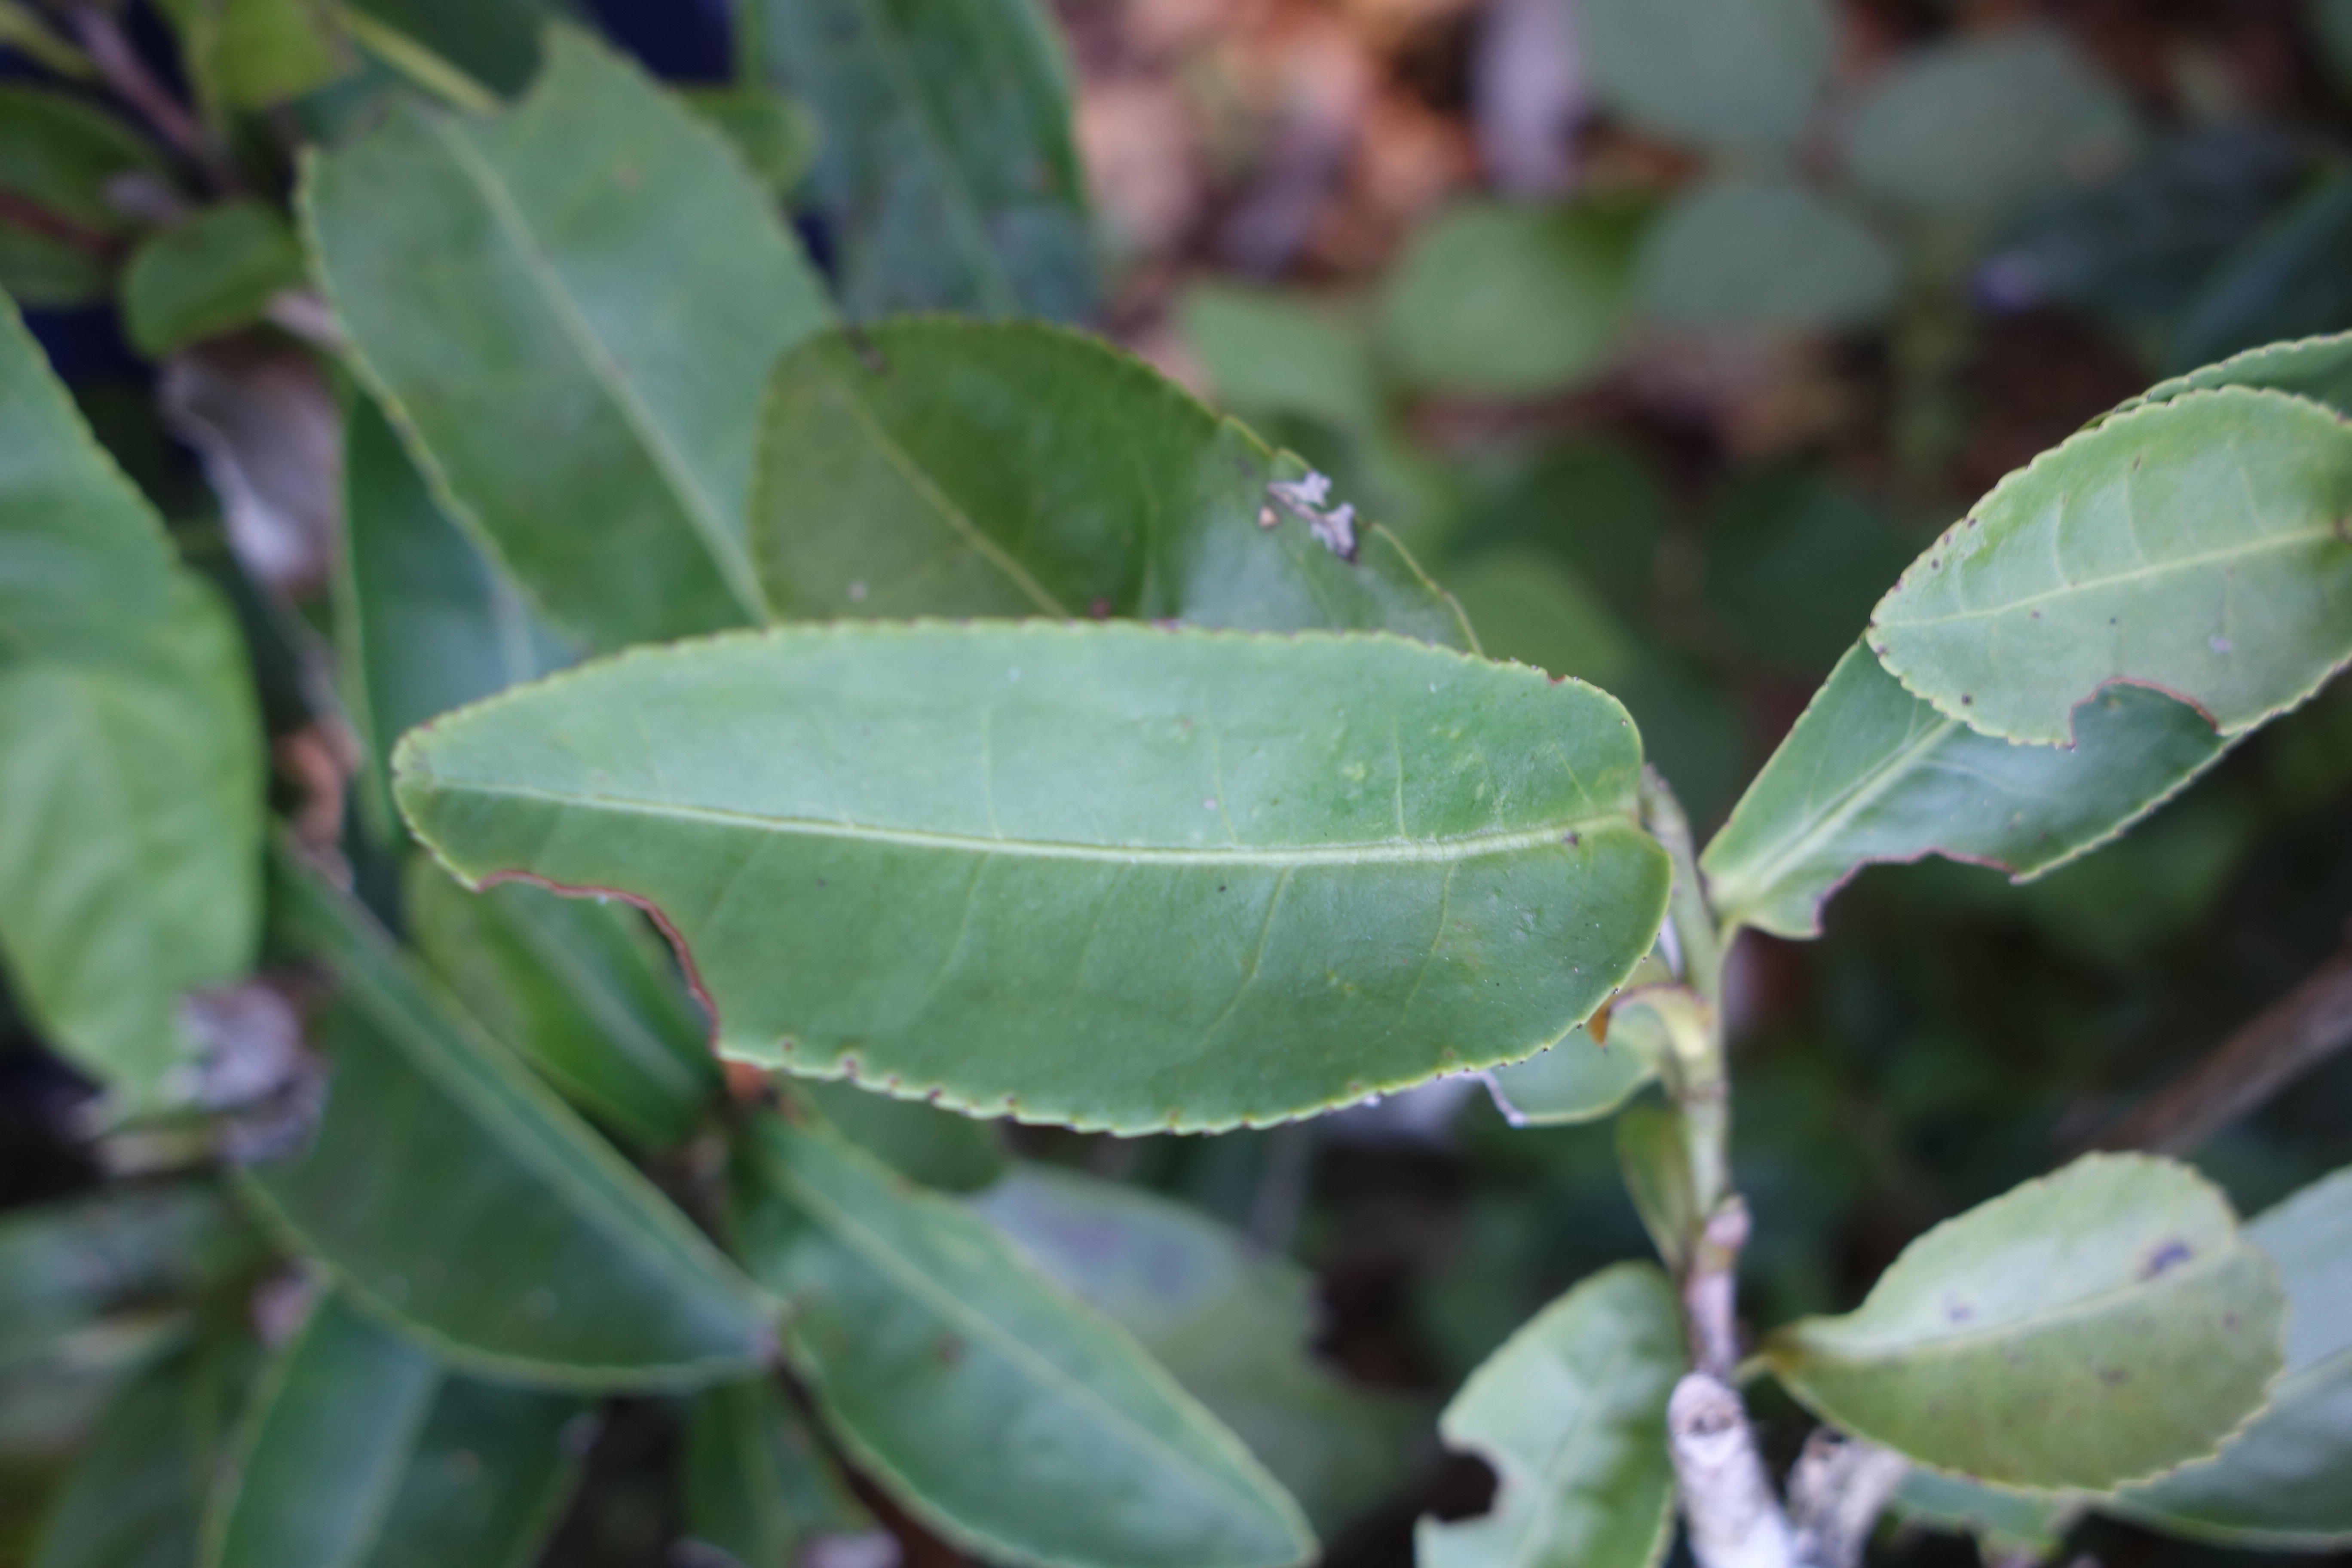chihuo_low: (388, 609, 1678, 1139), (1871, 385, 2348, 749), (1412, 1251, 1689, 1561)
